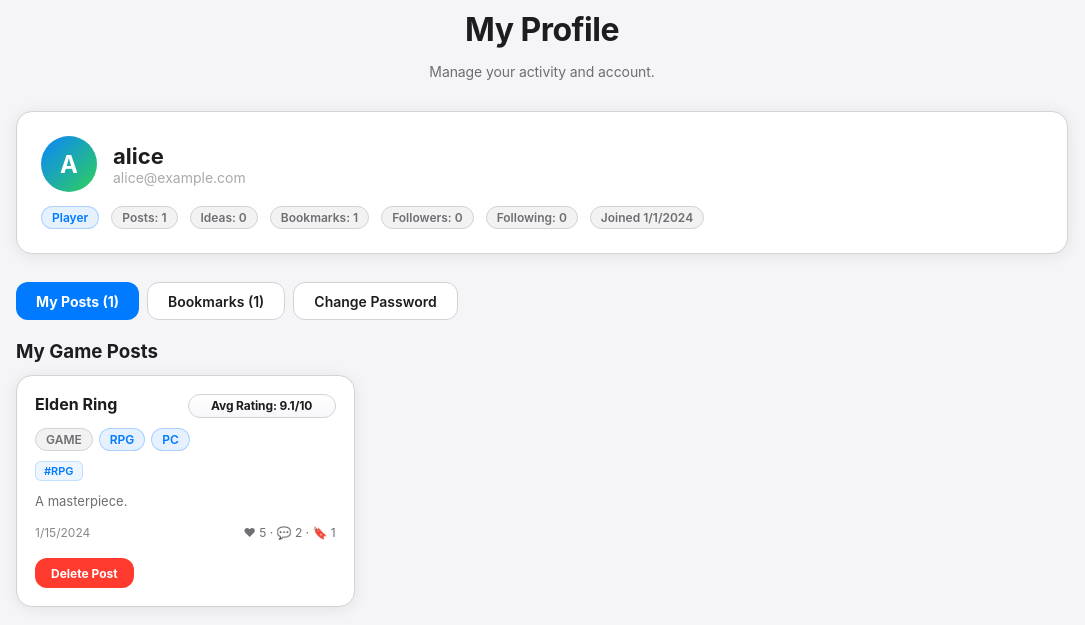
Scenario: ProfilePage › switching to Bookmarks tab shows bookmarked post
The image size is (1085, 625).
Expected: the heading "Elden Ring" is shown, [35,394,117,414]
Click the button "Bookmarks (1)".
click(216, 301)  # box [147,282,285,320]
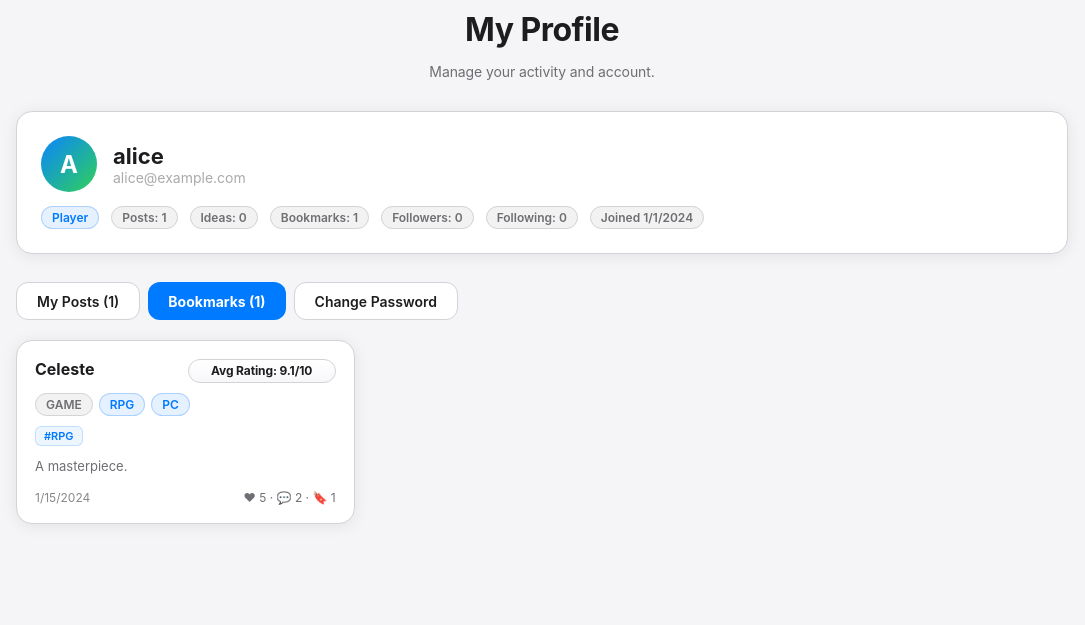
Result: the heading "Celeste" is shown at [35,359,94,379]
